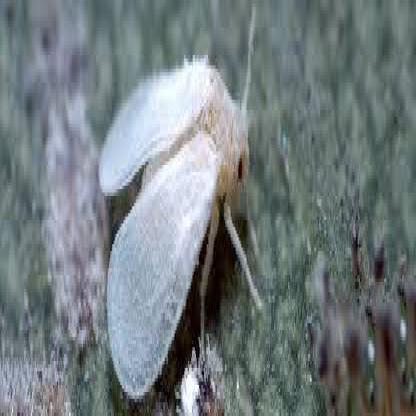whitefly: (99, 62, 253, 399)
